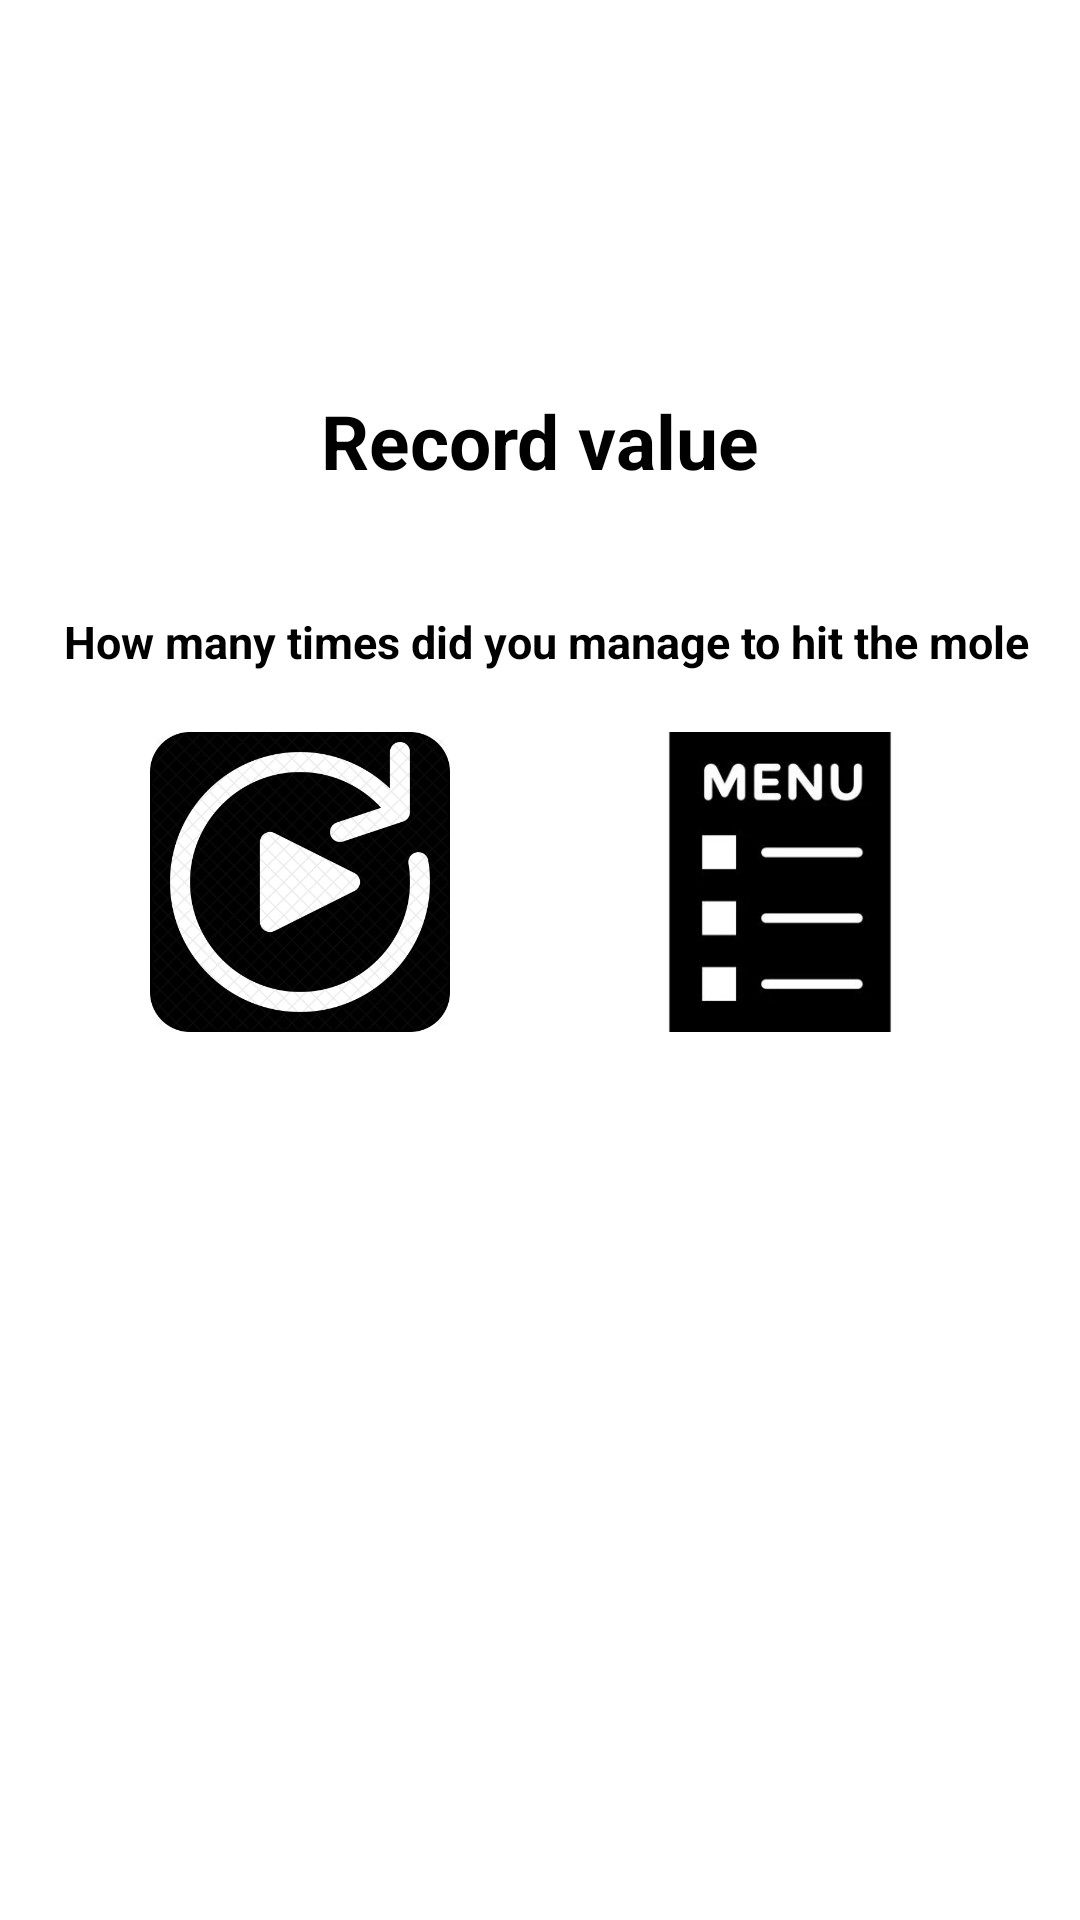

Icon bounding boxes for this 1080px×1920px phone screenshot, format (x1, y1, x2, y2):
playagain: (150, 732, 450, 1032)
